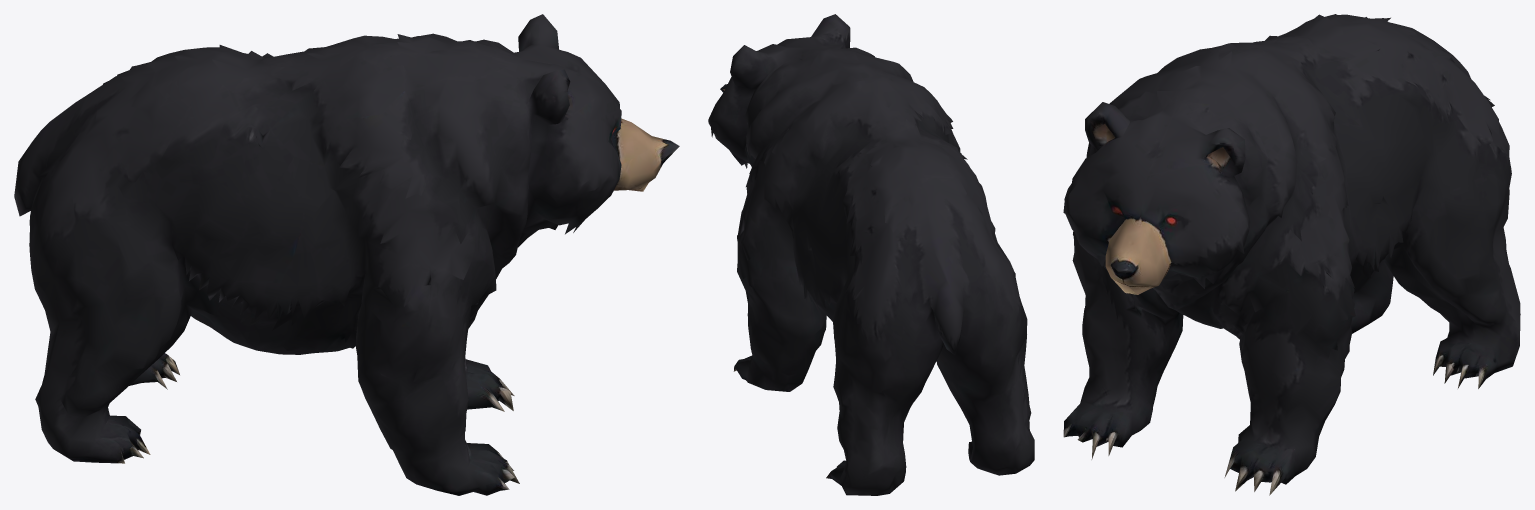
The model's file is bear.glb.
The picture shows the model from 3 angles, left to right: view 1: azimuth 30°, elevation 25°; view 2: azimuth 150°, elevation 25°; view 3: azimuth 270°, elevation 25°; orthographic projection. The views are drawn at different scales.
Visible parts, largest first — view 1: tripo_node_bb70276d-ea96-4a80-a908-85e90e3fa54a; view 2: tripo_node_bb70276d-ea96-4a80-a908-85e90e3fa54a; view 3: tripo_node_bb70276d-ea96-4a80-a908-85e90e3fa54a.
Part boxes in pixels (bbox=[...]): tripo_node_bb70276d-ea96-4a80-a908-85e90e3fa54a: bbox=[14, 14, 679, 495]; tripo_node_bb70276d-ea96-4a80-a908-85e90e3fa54a: bbox=[708, 14, 1034, 495]; tripo_node_bb70276d-ea96-4a80-a908-85e90e3fa54a: bbox=[1063, 14, 1520, 495].
Bounding box in the file's own units: 1 × 0.7664 × 0.8212.
Materials: 1 (1 with a texture image).
